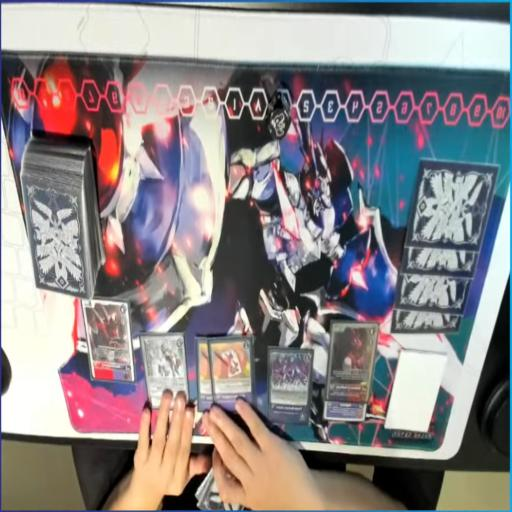card: (81, 290, 137, 385), (326, 324, 379, 404), (266, 344, 312, 426), (140, 332, 185, 415), (208, 330, 255, 408), (195, 335, 213, 413), (324, 400, 368, 422)
